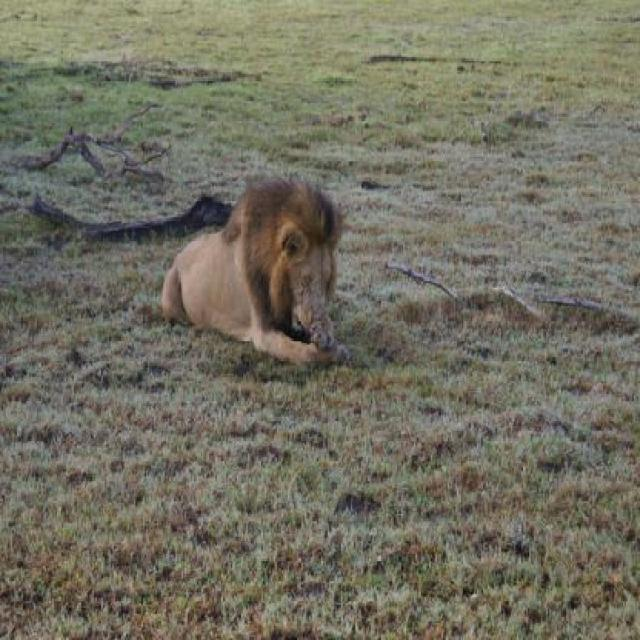Lion: (152, 165, 352, 386)
